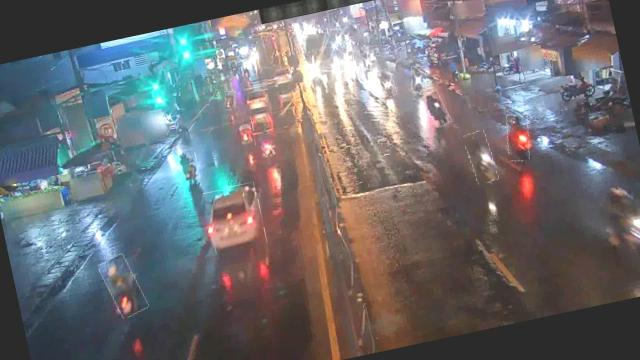Bike: (100, 251, 147, 319), (463, 129, 498, 185), (502, 112, 534, 162), (423, 88, 450, 127), (176, 148, 202, 186), (376, 68, 397, 99), (236, 116, 256, 148), (408, 64, 429, 94), (223, 90, 238, 112)
Car: (202, 182, 268, 253), (244, 88, 272, 114)
